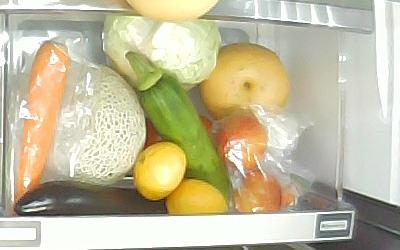carrot_vinyl: (15, 39, 71, 207)
eggplant: (12, 180, 167, 216)
melon: (42, 59, 146, 188)
pear: (199, 41, 290, 119)
prune_vinyl: (215, 114, 269, 169), (231, 170, 283, 211)
tangerine: (134, 141, 188, 201), (165, 179, 227, 213)
zucchini: (124, 51, 210, 141)
